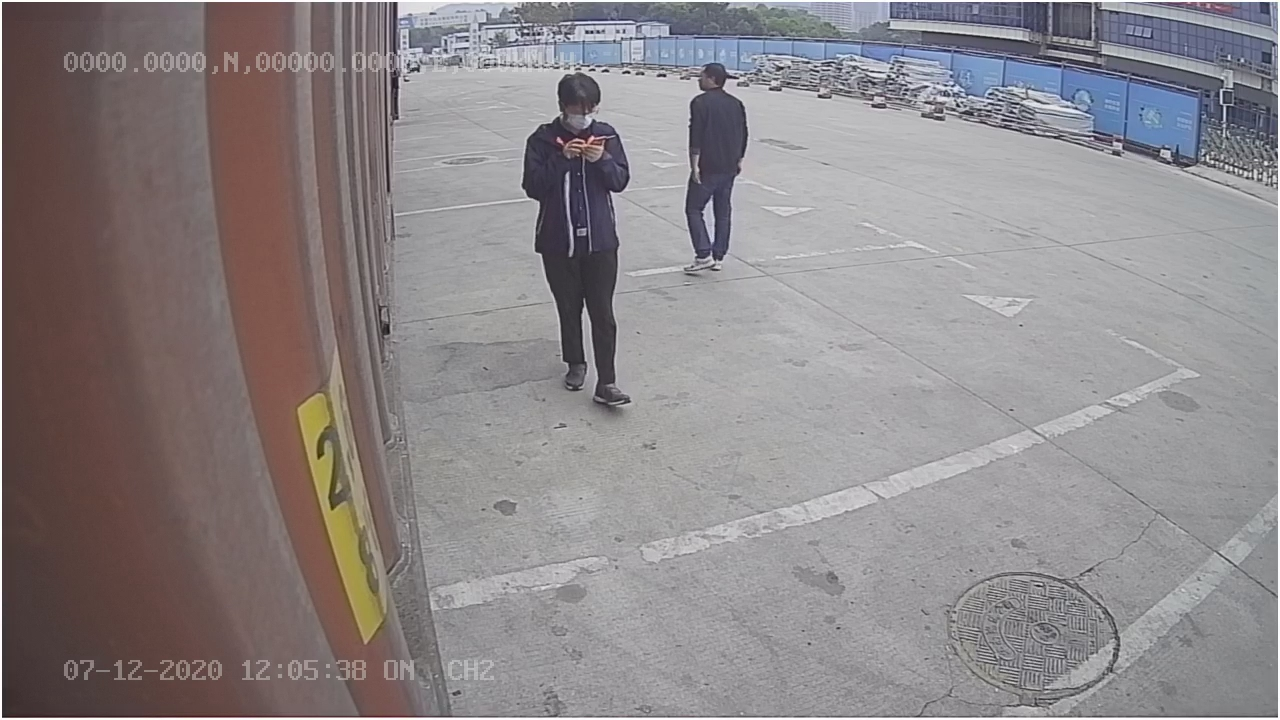person: (521, 69, 632, 413), (680, 56, 747, 279)
